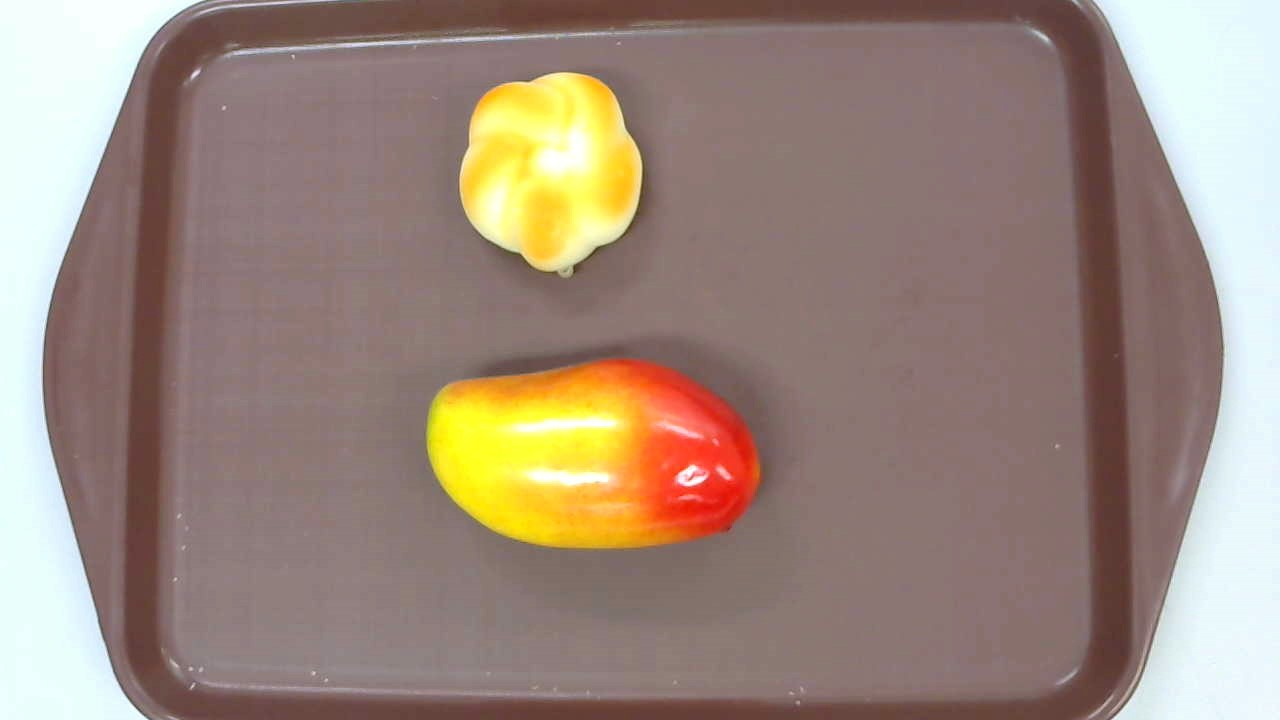red mango: (424, 357, 762, 550)
twist bread: (458, 72, 644, 278)
